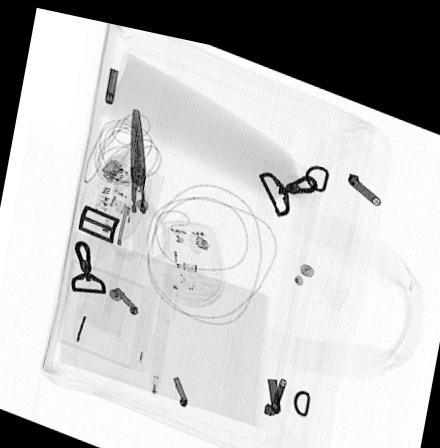Scissors: (104, 100, 173, 258)
